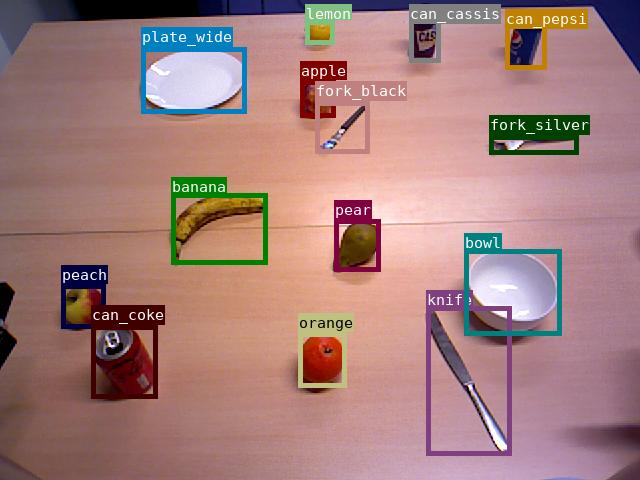apple: (300, 80, 335, 117)
banana: (171, 193, 267, 264)
bowl: (464, 249, 561, 335)
can_cassis: (409, 4, 440, 62)
can_coke: (91, 325, 157, 398)
can_pepsi: (505, 9, 546, 69)
fork_black: (315, 101, 369, 153)
fork_silver: (489, 135, 578, 154)
knife: (426, 306, 511, 455)
lemon: (305, 20, 334, 44)
orange: (298, 332, 346, 387)
peach: (61, 284, 105, 328)
pear: (334, 219, 380, 271)
plate_wide: (141, 47, 246, 113)
